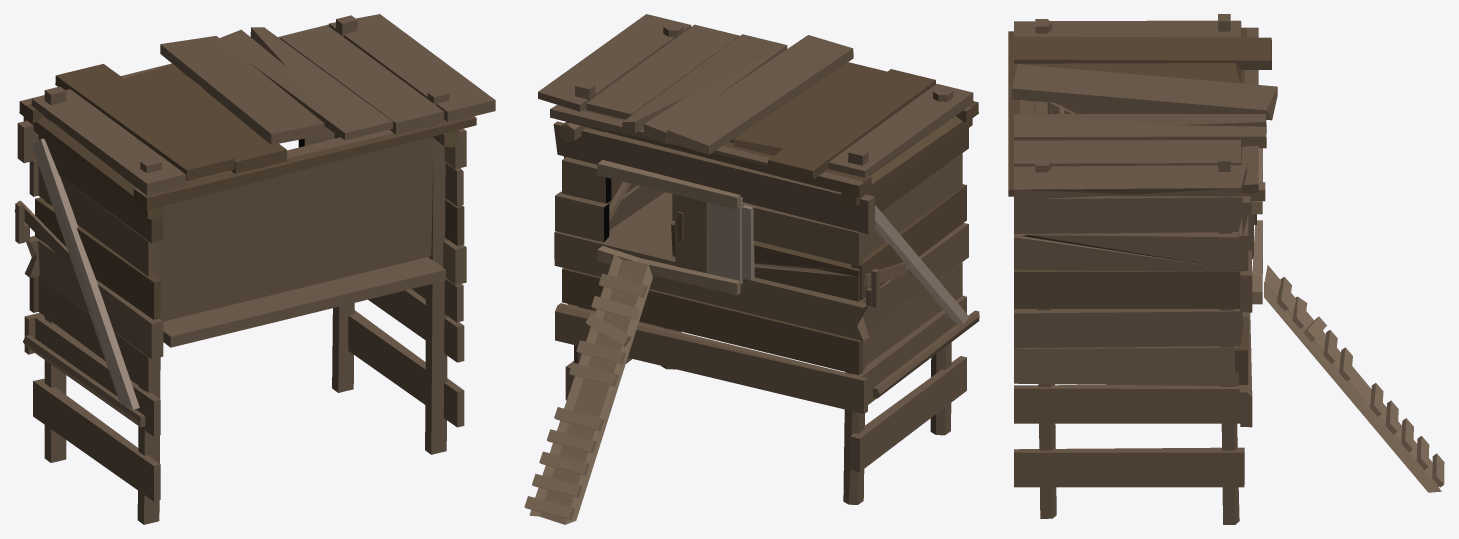
File: EA03_Village_AnimalBreeding_Hovel_01a.glb
3 views of the same model, side by side, from view 1: azimuth 30°, elevation 25°; view 2: azimuth 150°, elevation 25°; view 3: azimuth 270°, elevation 25° (orthographic). The views are drawn at different scales.
Visible parts, largest first — view 1: EA03_Village_AnimalBreeding_Hovel_01a; view 2: EA03_Village_AnimalBreeding_Hovel_01a; view 3: EA03_Village_AnimalBreeding_Hovel_01a.
Part boxes in pixels (x1=…): EA03_Village_AnimalBreeding_Hovel_01a: x1=14, y1=14, x2=495, y2=524; EA03_Village_AnimalBreeding_Hovel_01a: x1=524, y1=14, x2=979, y2=524; EA03_Village_AnimalBreeding_Hovel_01a: x1=1008, y1=14, x2=1444, y2=524.
Bounding box in the file's own units: 2.22 × 2.21 × 2.35.
1 material, 1 textured.
